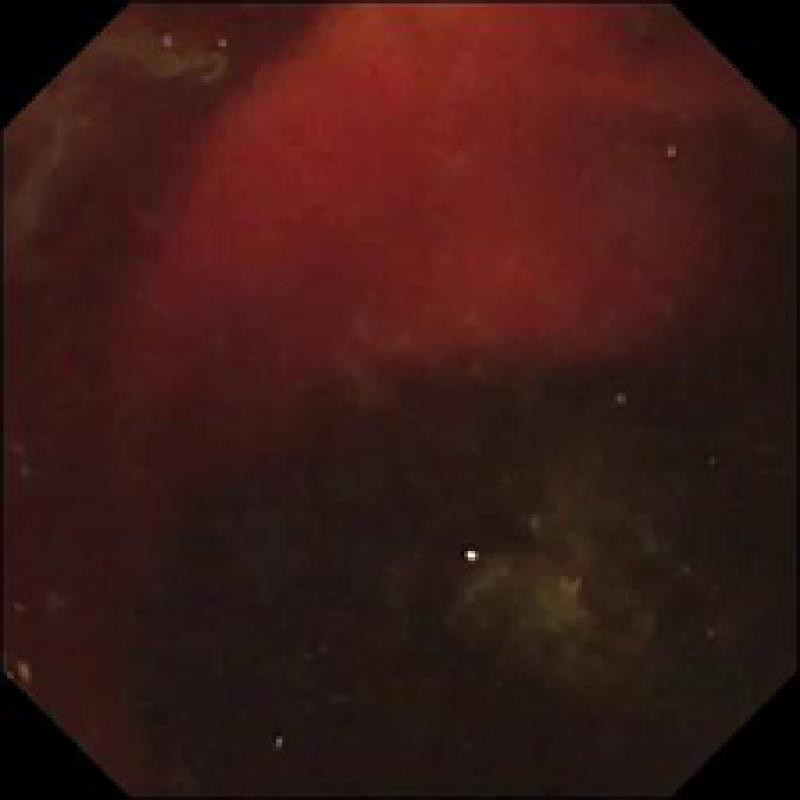bleeding: (121, 0, 725, 432)
